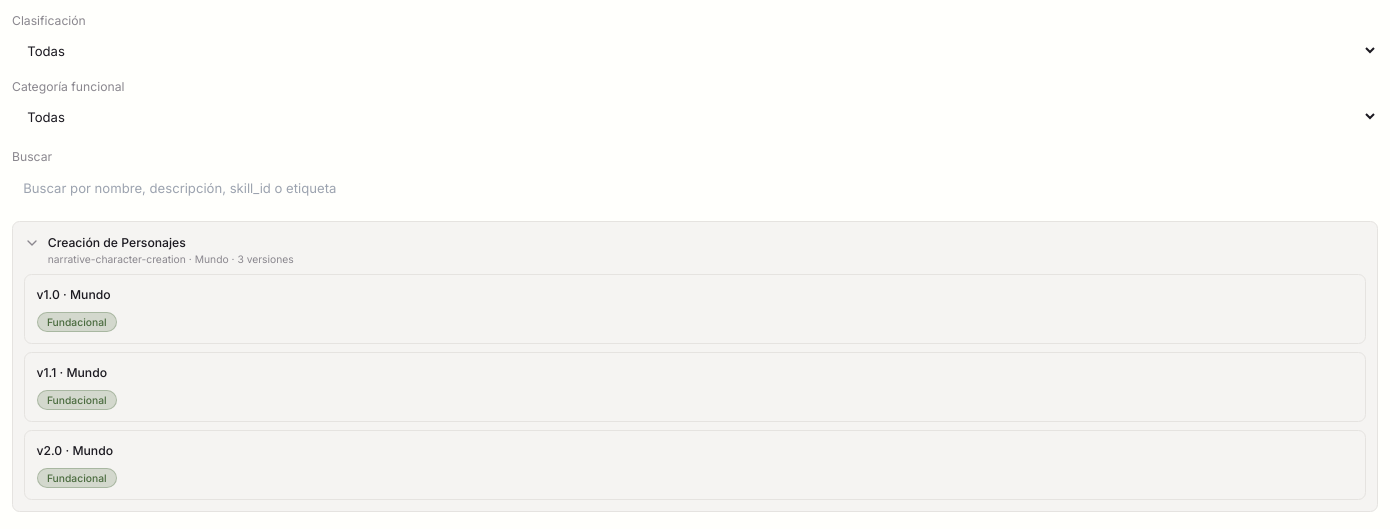
Test: GlobalMethodologyLibrary — catalog grouped by skill (TW7 presentation) › collapses and expands the group through the disclosure header
Expected: the text "v1.0 · Mundo" is shown, left=36, top=287, right=111, bottom=302
Step 1. Click the button "narrative-character-creation" → (117, 242), box left=24, top=234, right=1366, bottom=266
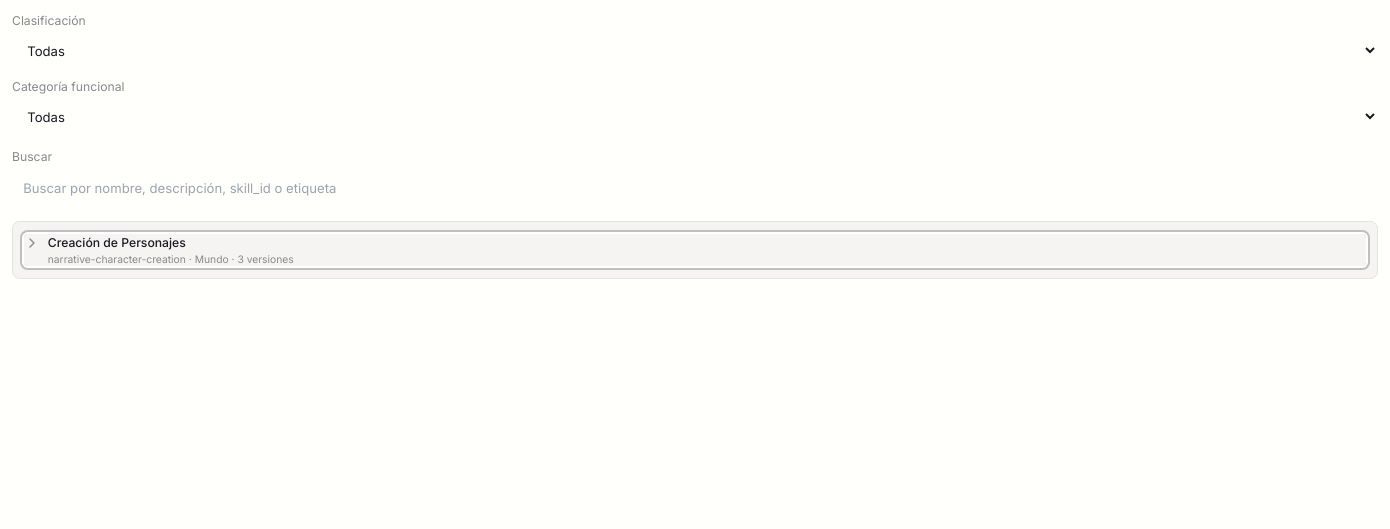
Now the button "narrative-character-creation" is collapsed
Now the button "v1.0 · Mundo" is gone
Now the button "v1.1 · Mundo" is gone
Step 2. Click the button "narrative-character-creation" → (117, 242), box left=24, top=234, right=1366, bottom=266
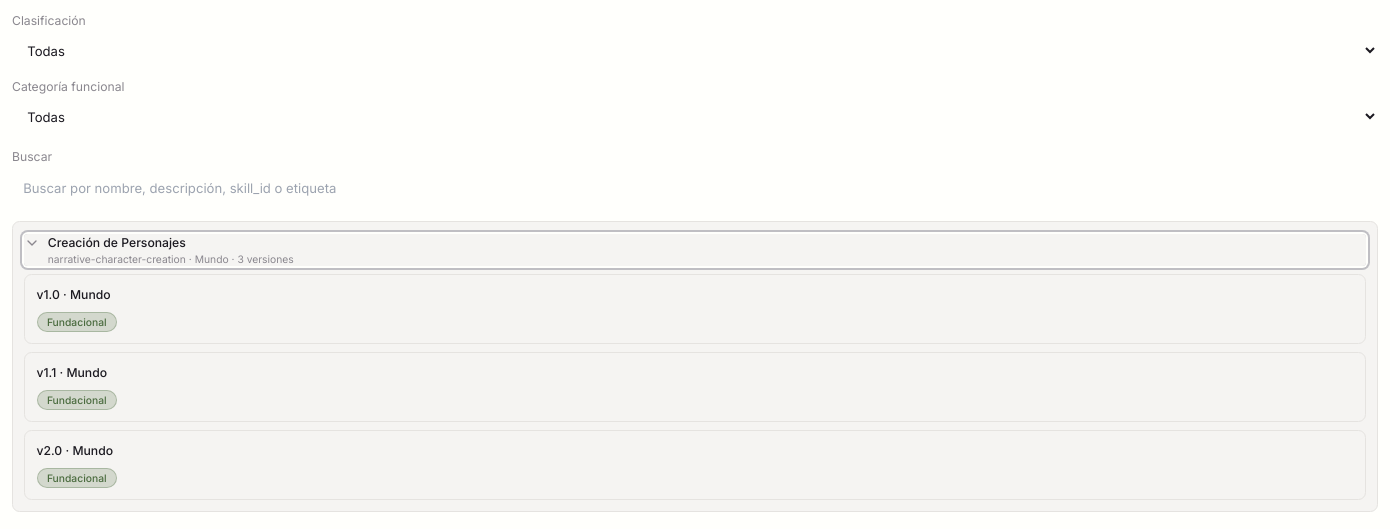
Now the button "narrative-character-creation" is expanded, box left=24, top=234, right=1366, bottom=266
Now the text "v1.0 · Mundo" is shown, box left=36, top=287, right=111, bottom=302
Now the text "v1.1 · Mundo" is shown, box left=36, top=365, right=107, bottom=380
